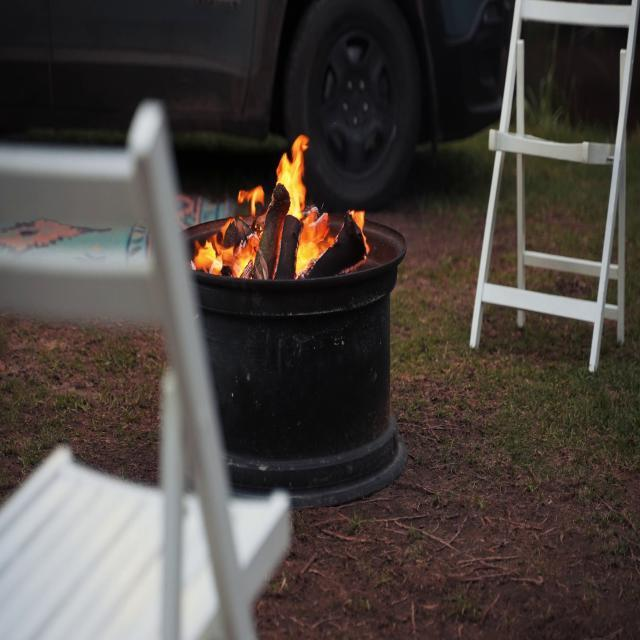Fire: (202, 130, 370, 276)
